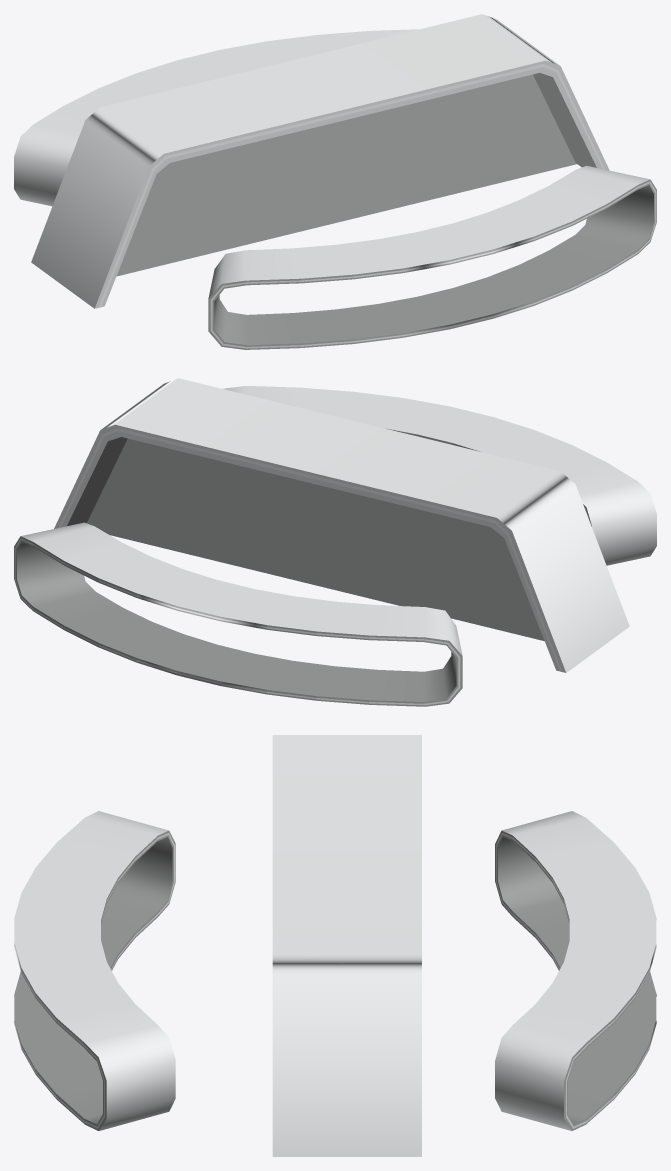
Rendered from M_canzhuo01.FBX.
3 views of the same model, one above another, from view 1: azimuth 30°, elevation 25°; view 2: azimuth 150°, elevation 25°; view 3: azimuth 270°, elevation 25° (orthographic). The views are drawn at different scales.
Parts seen in each view (by area): view 1: M_canzhuo01_01, M_canzhuo01_02; view 2: M_canzhuo01_01, M_canzhuo01_02; view 3: M_canzhuo01_01, M_canzhuo01_02.
Boxes of the visible parts, box(x1,y1,x2,y2) form: M_canzhuo01_01: box(14, 14, 656, 349); M_canzhuo01_02: box(98, 64, 656, 348); M_canzhuo01_01: box(14, 378, 656, 706); M_canzhuo01_02: box(14, 428, 588, 705); M_canzhuo01_01: box(14, 735, 656, 1156); M_canzhuo01_02: box(14, 833, 656, 1128).
Bounding box in the file's own units: 4 × 1.03 × 3.63.
